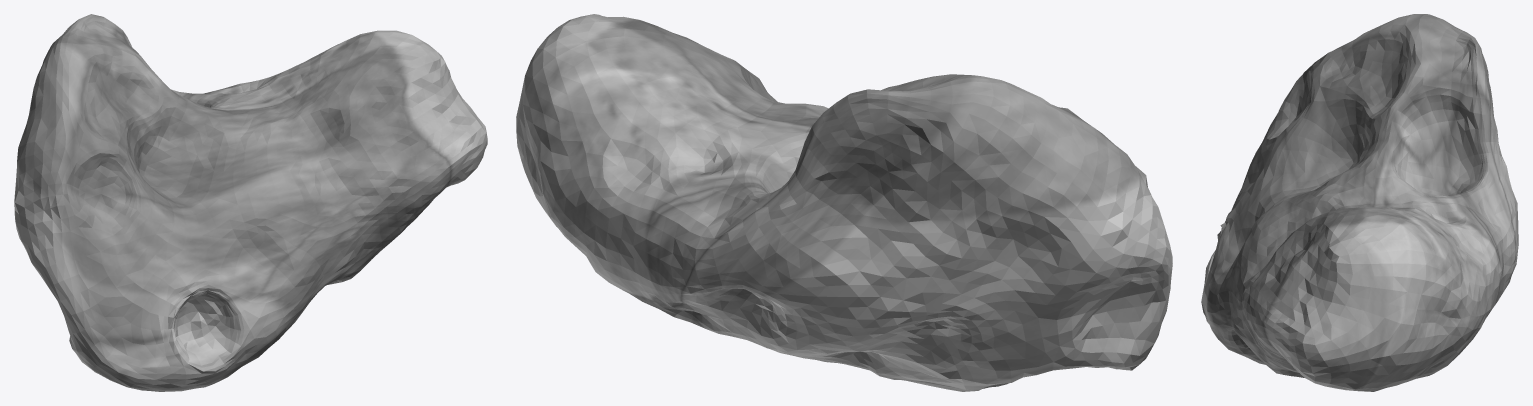
The model's file is asteroide2.obj.
3 renders of one model, left to right at view 1: azimuth 30°, elevation 25°; view 2: azimuth 150°, elevation 25°; view 3: azimuth 270°, elevation 25°, orthographic. The views are drawn at different scales.
Parts seen in each view (by area): view 1: prueba_para_las_uvs_1_defaultMat; view 2: prueba_para_las_uvs_1_defaultMat; view 3: prueba_para_las_uvs_1_defaultMat.
Boxes of the visible parts, bbox=[...] form: prueba_para_las_uvs_1_defaultMat: bbox=[14, 14, 487, 391]; prueba_para_las_uvs_1_defaultMat: bbox=[516, 14, 1172, 391]; prueba_para_las_uvs_1_defaultMat: bbox=[1201, 14, 1518, 391].
Size of the model in its own units: 3.15 by 1.96 by 1.8.
